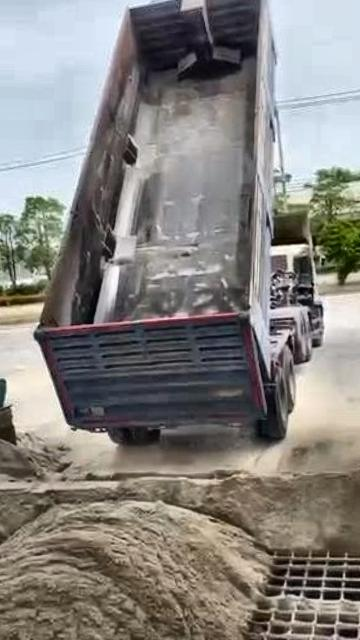sand: (0, 435, 360, 552), (0, 502, 268, 640), (264, 593, 360, 613)
